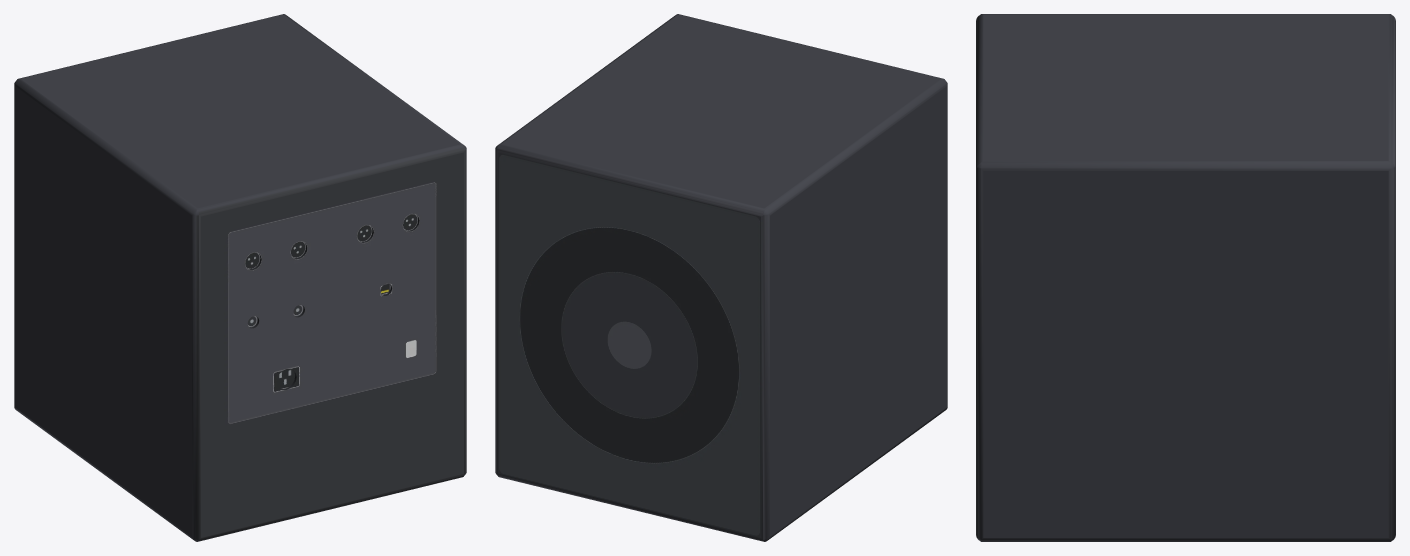
File: neumann-kh-750-dsp.glb
3 renders of one model, left to right at view 1: azimuth 30°, elevation 25°; view 2: azimuth 150°, elevation 25°; view 3: azimuth 270°, elevation 25°, orthographic. The views are drawn at different scales.
Visible parts, largest first — view 1: neumann-kh-750-dsp-body; view 2: neumann-kh-750-dsp-body; view 3: neumann-kh-750-dsp-body.
Part boxes in pixels (<box>): neumann-kh-750-dsp-body: <box>14,14,466,541</box>; neumann-kh-750-dsp-body: <box>495,14,947,541</box>; neumann-kh-750-dsp-body: <box>976,14,1395,541</box>.
Bounding box in the file's own units: 0.33 × 0.383 × 0.383.
1 material, 1 textured.
